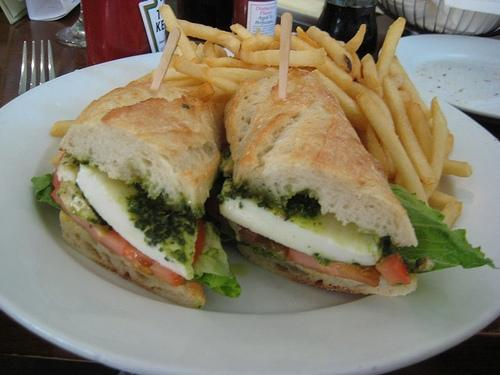lettuce: (382, 183, 494, 274), (194, 223, 231, 277), (190, 271, 242, 299), (30, 171, 62, 210)
tomato: (50, 152, 207, 286), (238, 228, 382, 287), (376, 254, 411, 286)
